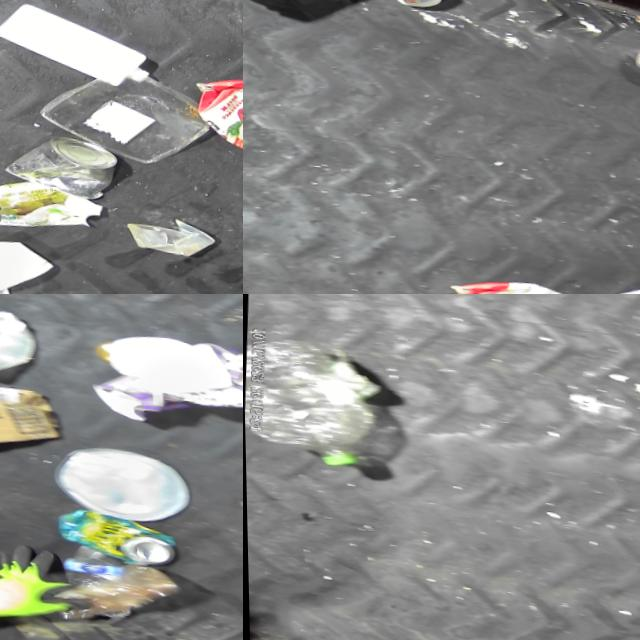can: (48, 502, 193, 563), (0, 120, 117, 195)
milk_jug: (0, 0, 154, 83)
non_white_jug: (439, 259, 624, 294), (184, 56, 243, 162)
plastic_bottle: (243, 331, 380, 468)
